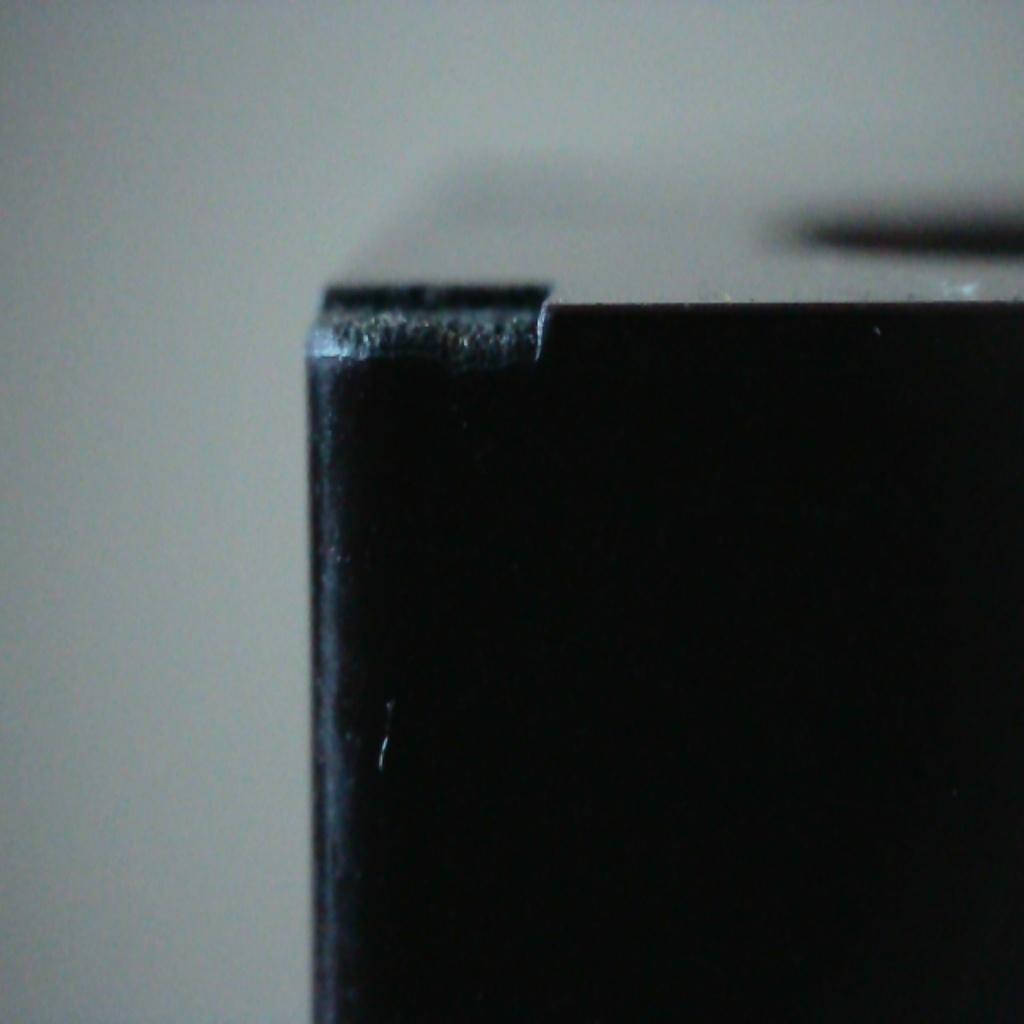flank_wear: (308, 343, 364, 369)
